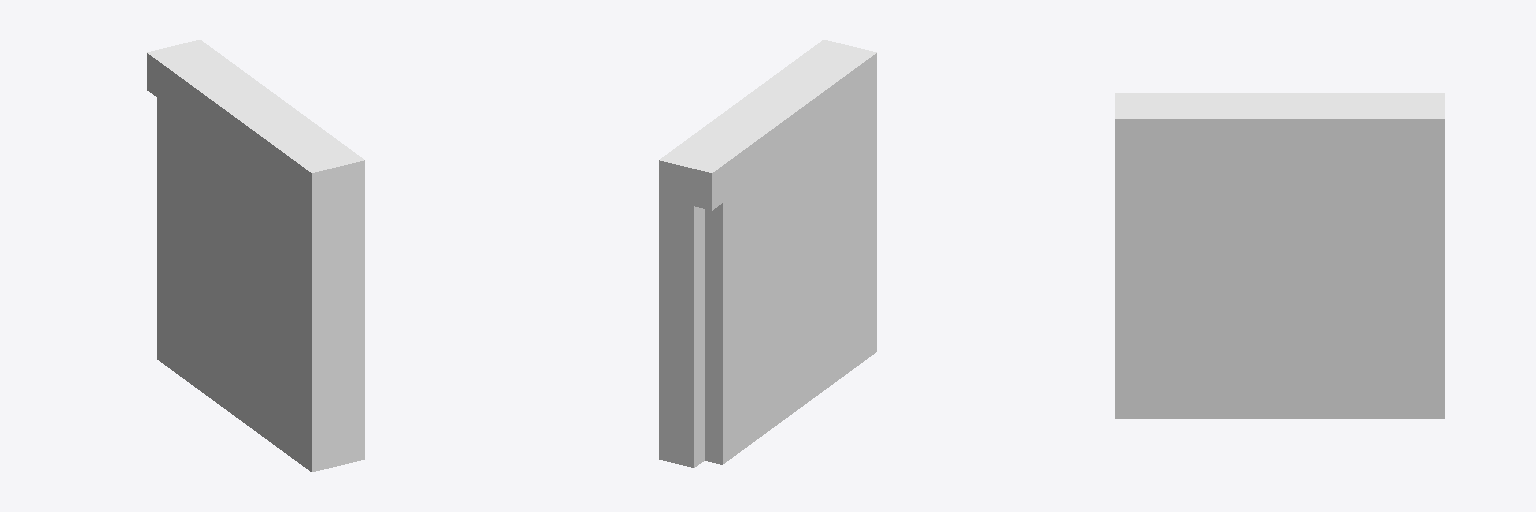
Rendered from WallsSimpleV1CornerFrontLow.obj.
3 views of the same model, side by side, from view 1: azimuth 30°, elevation 25°; view 2: azimuth 150°, elevation 25°; view 3: azimuth 270°, elevation 25° (orthographic).
Visible parts, largest first — view 1: object 1; view 2: object 1; view 3: object 1.
Boxes of the visible parts, <box> form: object 1: <box>147,40,364,471</box>; object 1: <box>659,40,876,467</box>; object 1: <box>1115,93,1444,418</box>.
Bounding box in the file's own units: 0.3 × 1.6 × 1.6.